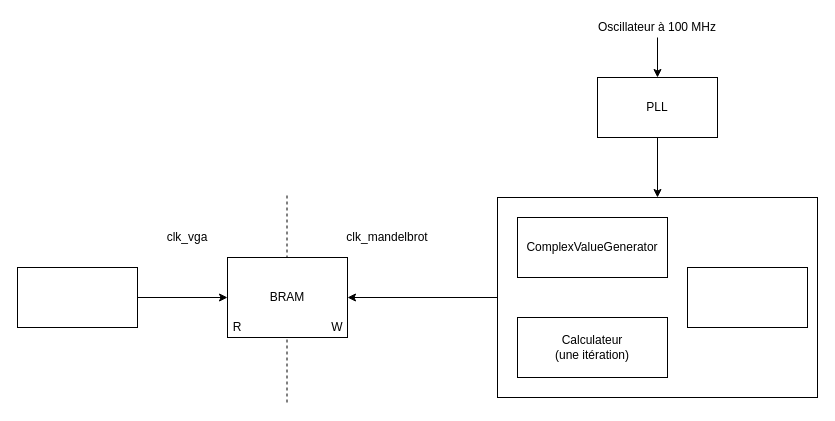
Some shapes in this 835 by 421 pixel diagram are drawn without their labels. The shapes that lost their labels are listed below. From the top down, each one's centre as x and y in pixels, then its label:
At point (77, 297): "HDMI".
At point (747, 297): "Machine d'états".
